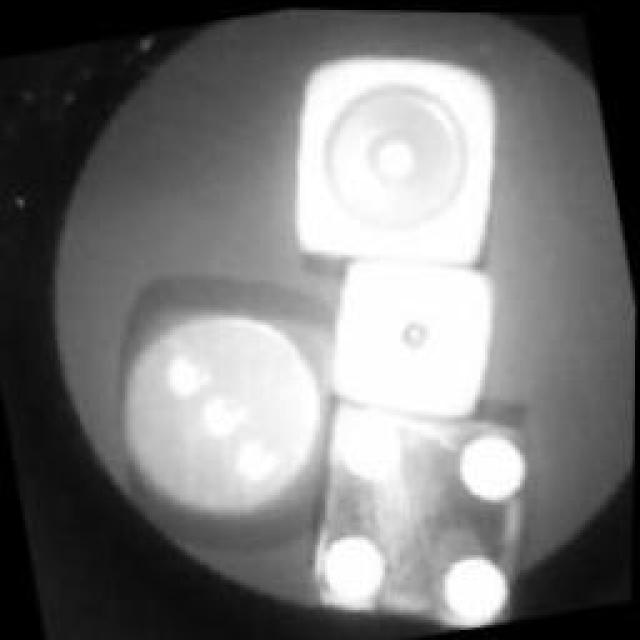dice_1: (252, 14, 528, 294), (304, 224, 531, 454)
dice_3: (64, 242, 374, 568)
dice_4: (265, 362, 563, 640)
